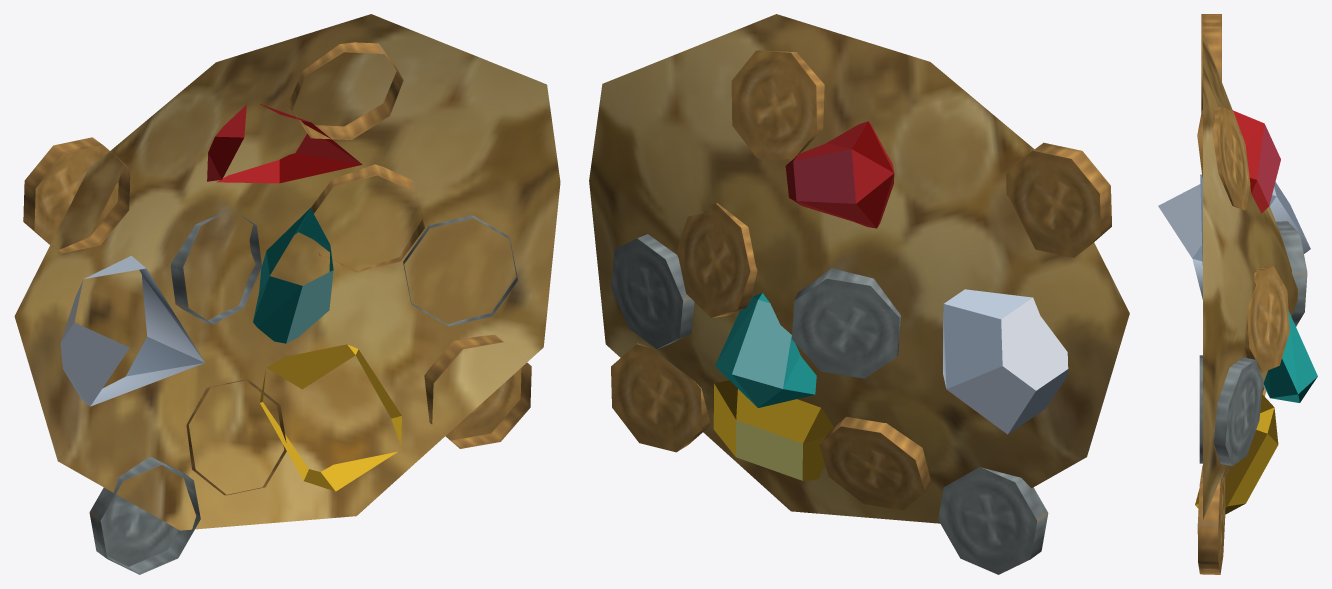
File: Gold_Stack_C.fbx
3 views of the same model, side by side, from view 1: azimuth 30°, elevation 25°; view 2: azimuth 150°, elevation 25°; view 3: azimuth 270°, elevation 25° (orthographic). The views are drawn at different scales.
Visible parts, largest first — view 1: Gold_Stack_C; view 2: Gold_Stack_C; view 3: Gold_Stack_C.
Boxes of the visible parts, left/top/right/bottom form: Gold_Stack_C: left=14, top=14, right=560, bottom=574; Gold_Stack_C: left=589, top=14, right=1129, bottom=574; Gold_Stack_C: left=1158, top=14, right=1317, bottom=574.
Bounding box in the file's own units: 0.9086 × 0.7992 × 0.2496.
